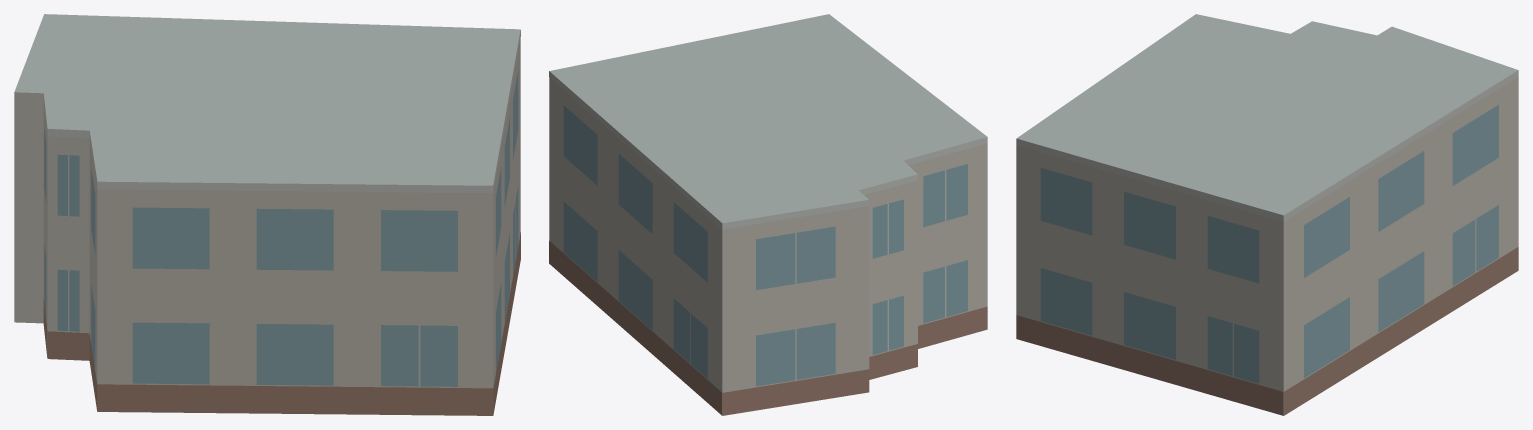
Rendered from survey-upis-32630907.glb.
3 views of the same model, side by side, from view 1: azimuth 30°, elevation 25°; view 2: azimuth 150°, elevation 25°; view 3: azimuth 270°, elevation 25° (orthographic). The views are drawn at different scales.
Visible parts, largest first — view 1: survey-upis-32630907.tmp; view 2: survey-upis-32630907.tmp; view 3: survey-upis-32630907.tmp.
Part boxes in pixels (bbox=[...]): survey-upis-32630907.tmp: bbox=[14, 14, 520, 415]; survey-upis-32630907.tmp: bbox=[549, 14, 987, 415]; survey-upis-32630907.tmp: bbox=[1016, 14, 1518, 415].
Bounding box in the file's own units: 16.38 × 7.6 × 17.26.
